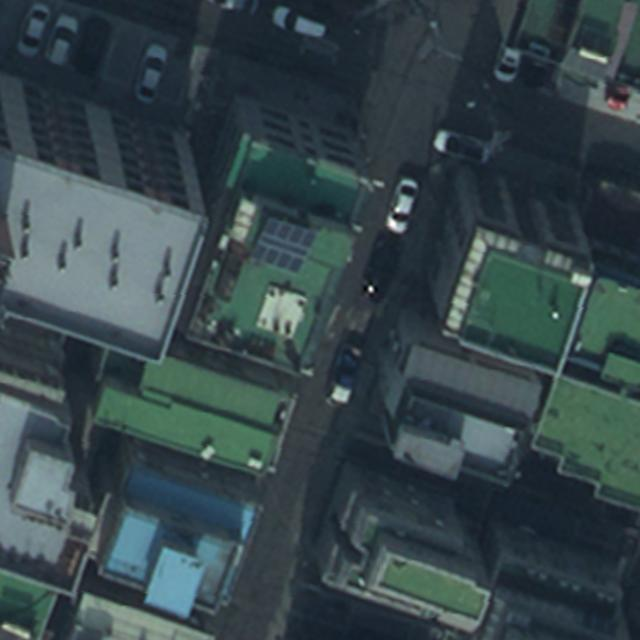panel: (247, 216, 318, 274)
